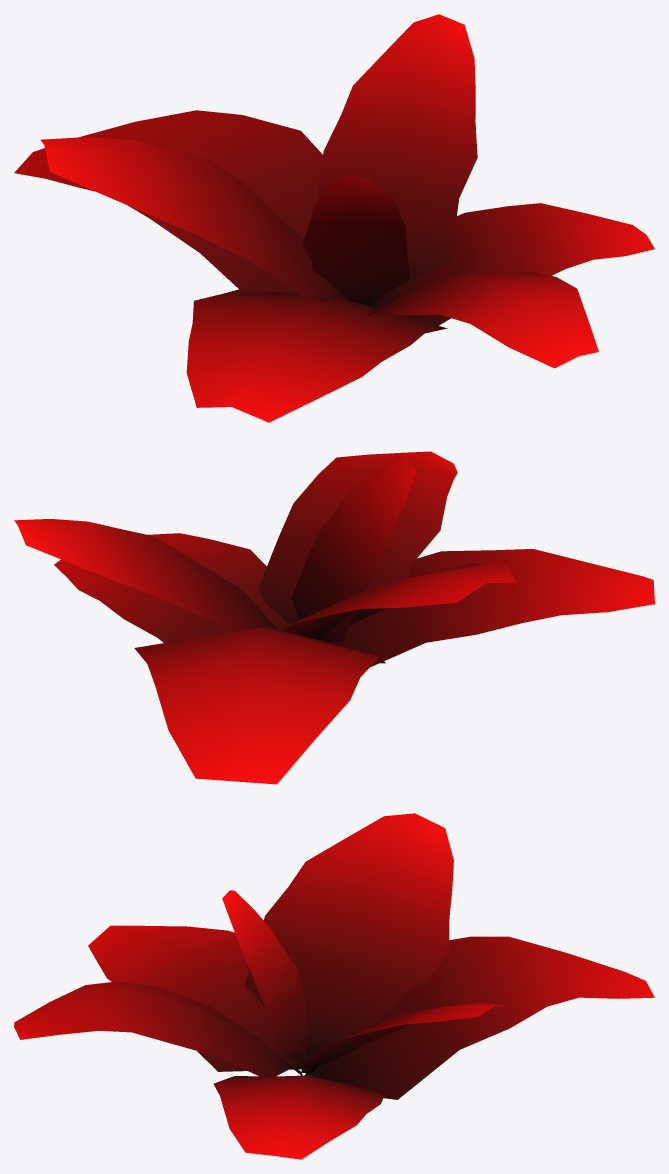
The model's file is Fern_01.fbx.
The picture shows the model from 3 angles, top to bottom: view 1: azimuth 30°, elevation 25°; view 2: azimuth 150°, elevation 25°; view 3: azimuth 270°, elevation 25°; orthographic projection. The views are drawn at different scales.
Visible parts, largest first — view 1: Fern_01; view 2: Fern_01; view 3: Fern_01.
Boxes of the visible parts, x1,y1,x2,y2 form: Fern_01: [14, 14, 654, 422]; Fern_01: [14, 451, 654, 784]; Fern_01: [14, 813, 654, 1159].
Size of the model in its own units: 431 by 162 by 533.
